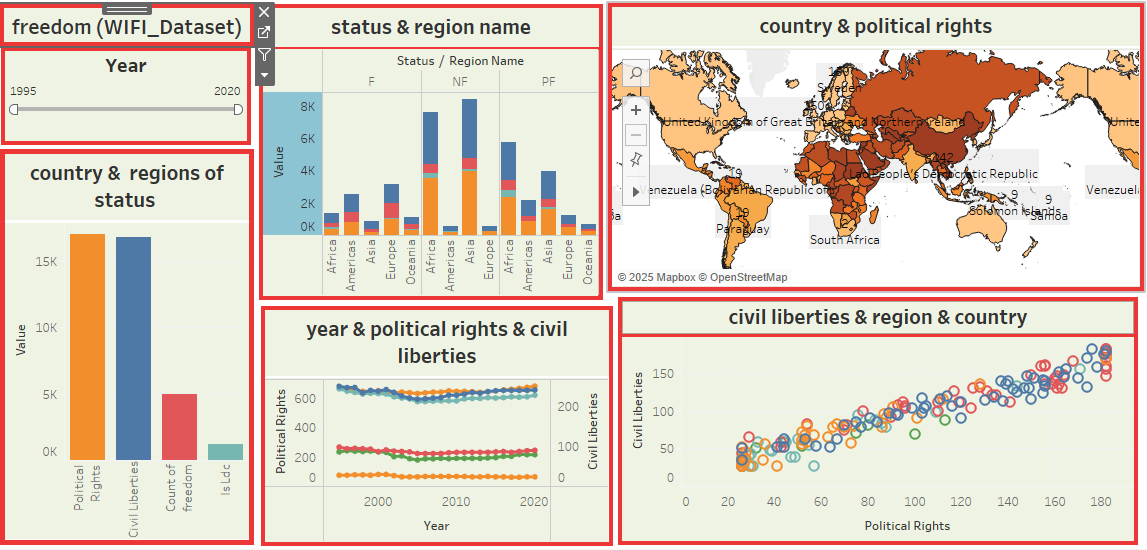

The page's visual inventory and layout, read from the dashboard file:
{"tool":"tableau","page":{"name":"freedom (wifi_dataset)","canvas":[1000,1000],"units":"permille","ordinal":0},"visuals":[{"type":"worksheet","title":"country & political rights","mark":"Automatic","box":[528.9,10.9,464.4,521.7]},{"type":"worksheet","title":"title","mark":"Automatic","box":[2.5,12.7,220.1,76.1]},{"type":"worksheet","title":"status & region name ","mark":"Automatic","cols":["Status","Region_Name"],"box":[226.8,12.7,297.9,536.2]},{"type":"filter","title":"civil liberties & region & country","param":"[federated.0kvj19i0c5g2cc1fyf3k51iw6jul].[none:year:qk]","box":[3.4,90.6,216.7,177.5]},{"type":"worksheet","title":"country & status","mark":"Bar","box":[2.5,275.4,220.1,717.4]},{"type":"worksheet","title":"civil liberties & region & country","mark":"Automatic","rows":["Civil Liberties"],"cols":["Political Rights"],"box":[537.2,543.5,450.2,449.3]},{"type":"worksheet","title":"year & political rights & civil liberties","mark":"Line","rows":["Political Rights","Civil Liberties"],"cols":["year"],"box":[228.5,559.8,304.6,434.8]}]}

Visuals, with their boxes on the dashboard's canvas, which has no fixed pixel size, in thousandths of its width and height (x1, y1, x2, y2). These are canvas units, not pixel positions in the 1147x550 screenshot, which may show the page scaled, cropped or inside an application window:
"country & political rights" worksheet: x1=529 y1=11 x2=993 y2=533
"title" worksheet: x1=2 y1=13 x2=223 y2=89
"status & region name " worksheet: x1=227 y1=13 x2=525 y2=549
"civil liberties & region & country" filter: x1=3 y1=91 x2=220 y2=268
"country & status" worksheet (Bar marks): x1=2 y1=275 x2=223 y2=993
"civil liberties & region & country" worksheet: x1=537 y1=544 x2=987 y2=993
"year & political rights & civil liberties" worksheet (Line marks): x1=228 y1=560 x2=533 y2=995
